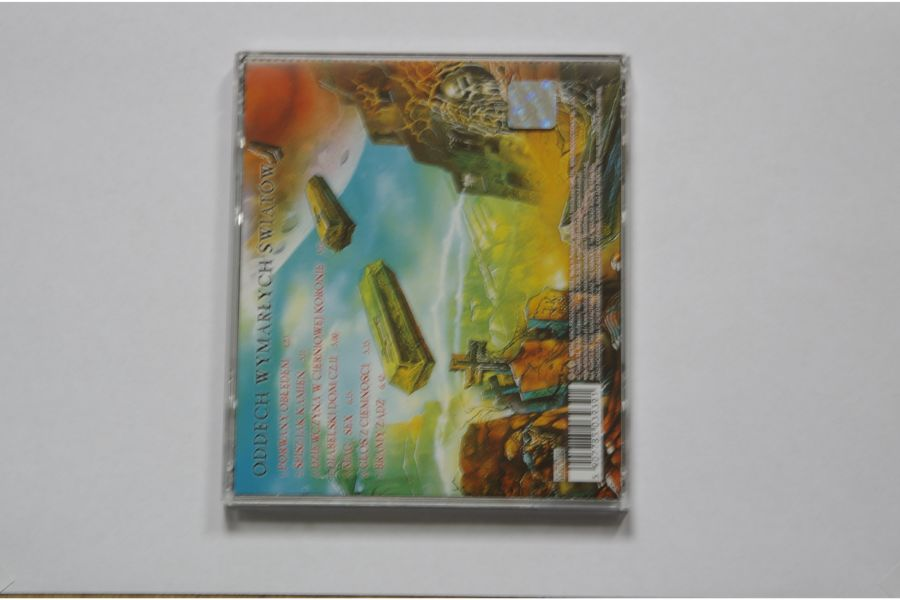album: (222, 49, 631, 514)
